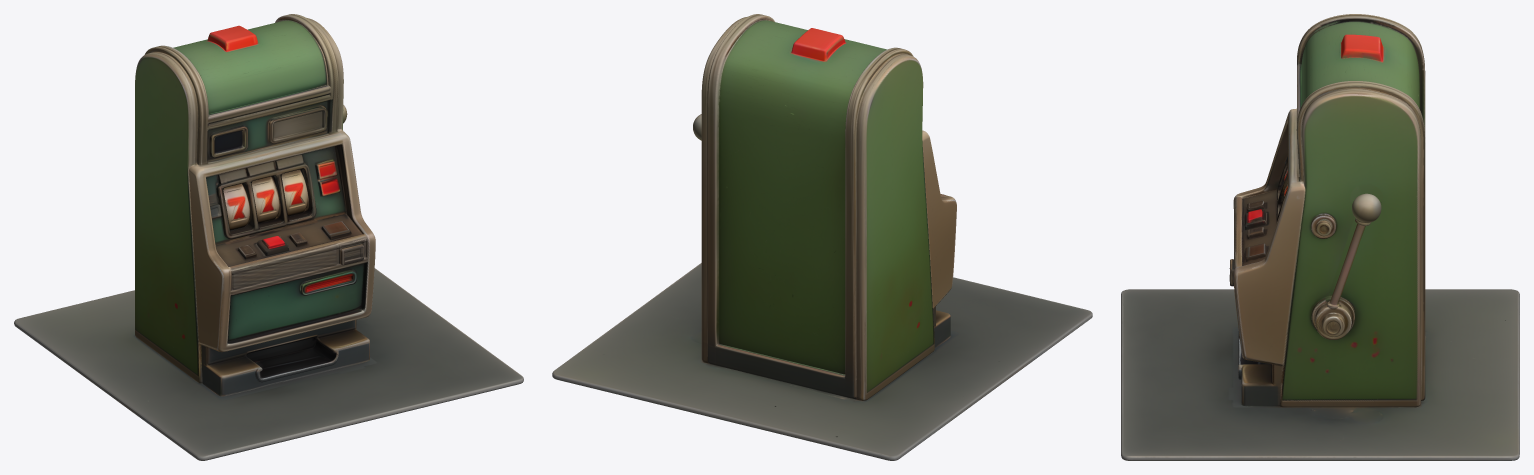
Rendered from SLOT Machine.glb.
3 renders of one model, left to right at view 1: azimuth 30°, elevation 25°; view 2: azimuth 150°, elevation 25°; view 3: azimuth 270°, elevation 25°, orthographic. The views are drawn at different scales.
Visible parts, largest first — view 1: texture_pbr_v128; view 2: texture_pbr_v128; view 3: texture_pbr_v128.
Boxes of the visible parts, left/top/right/bottom form: texture_pbr_v128: left=14, top=14, right=523, bottom=460; texture_pbr_v128: left=552, top=14, right=1092, bottom=460; texture_pbr_v128: left=1121, top=14, right=1519, bottom=460.
Bounding box in the file's own units: 0.7202 × 0.6544 × 0.7221.
Materials: 1 (1 with a texture image).
